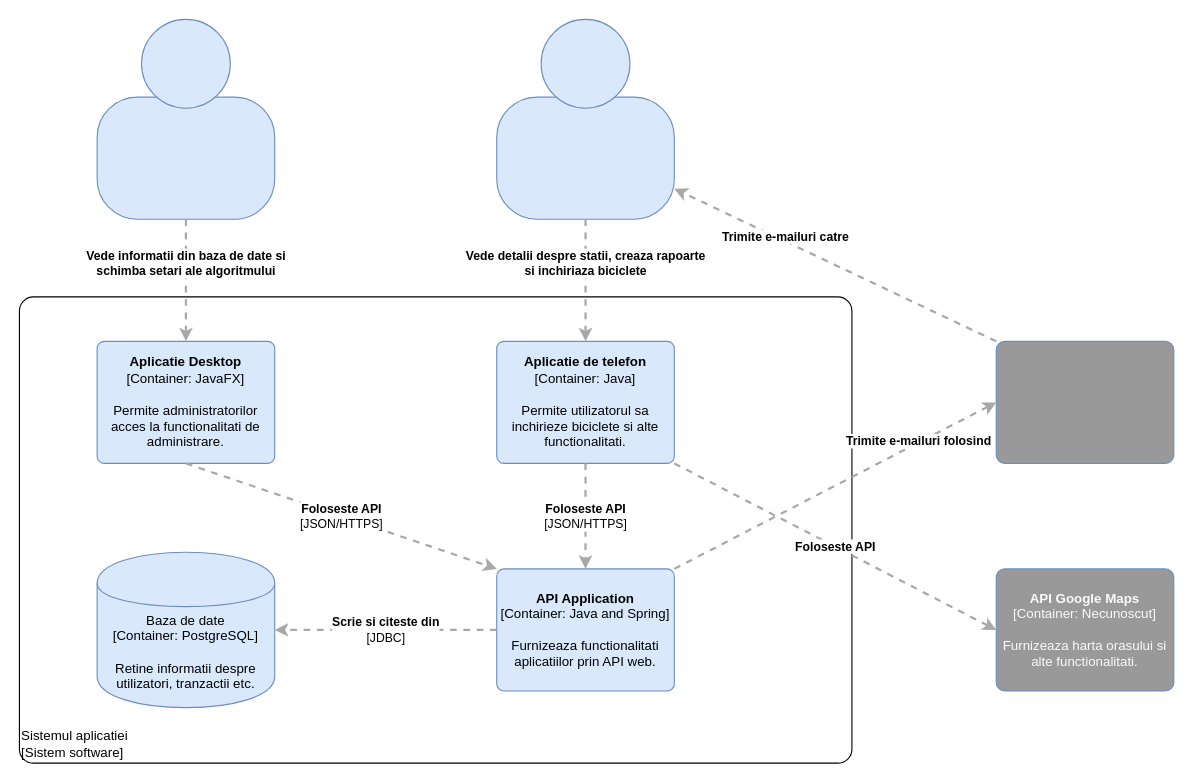
The diagram is 1193 pixels wide and 783 high, and some of its shapes have lost their labels. Here are the shapes that lost their labels. From the top down, the centre of each, then its label:
the point at 185,157: Administrator [Persoana] Un administrator al aplicatiei.
the point at 585,157: Utilizator [Persoana] Un utilizator al aplicatiei.
the point at 1084,401: Sistemul de e-mail [Sistem software] Sistemul ce trimite e-mailuri.
